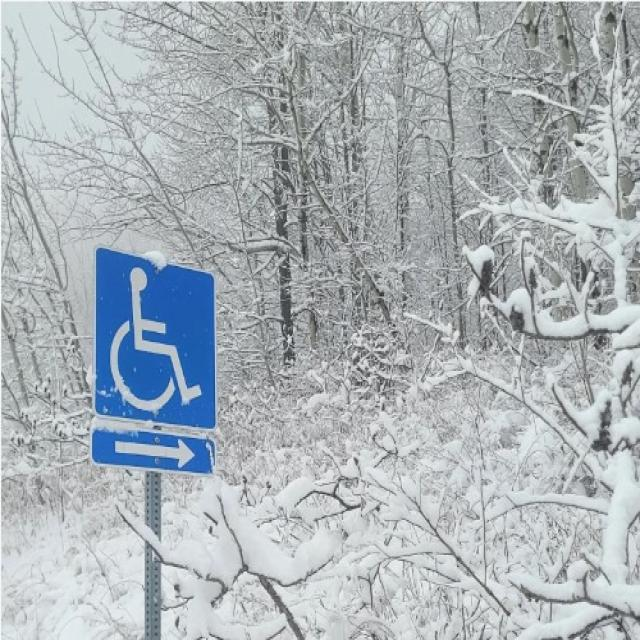symbol_of_access: (88, 243, 219, 434)
